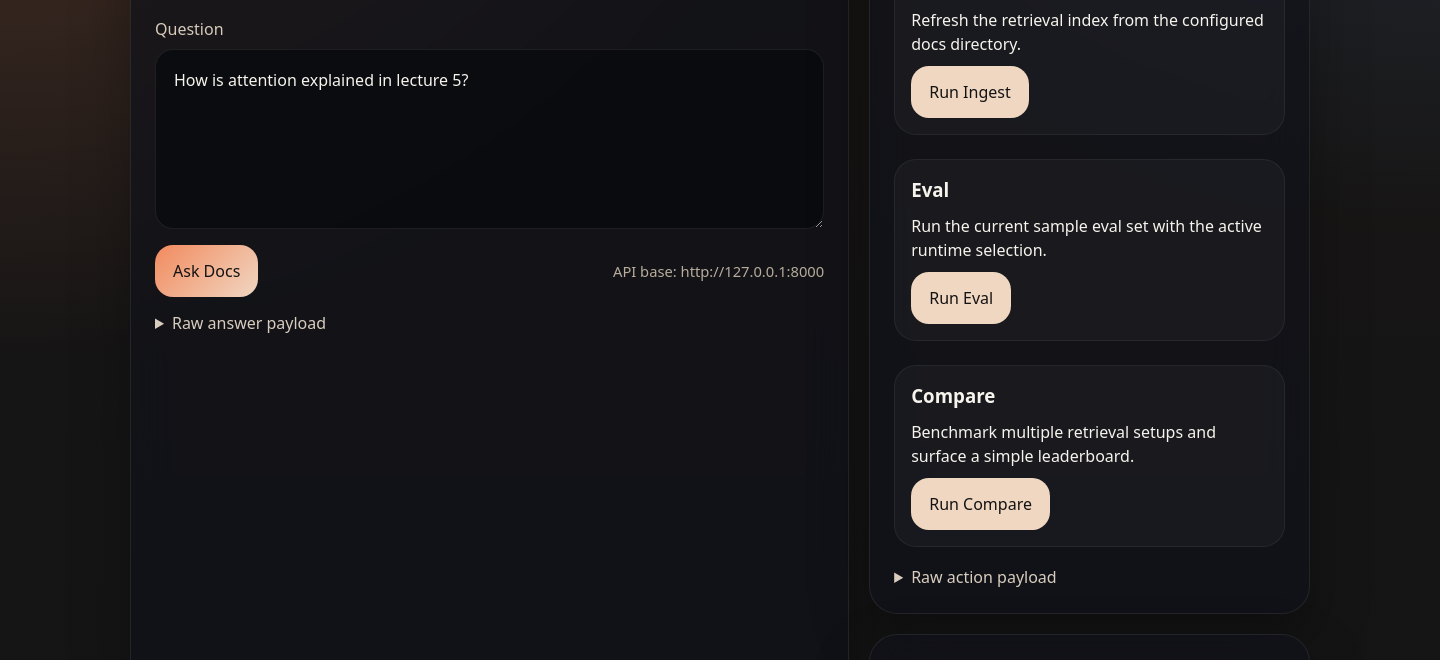
Test: renders backend citation ids and preserves an unlabelled span
(page scrolled)
Click the button "Ask Docs" at [207, 271], box [155, 245, 258, 297]
(page scrolled)
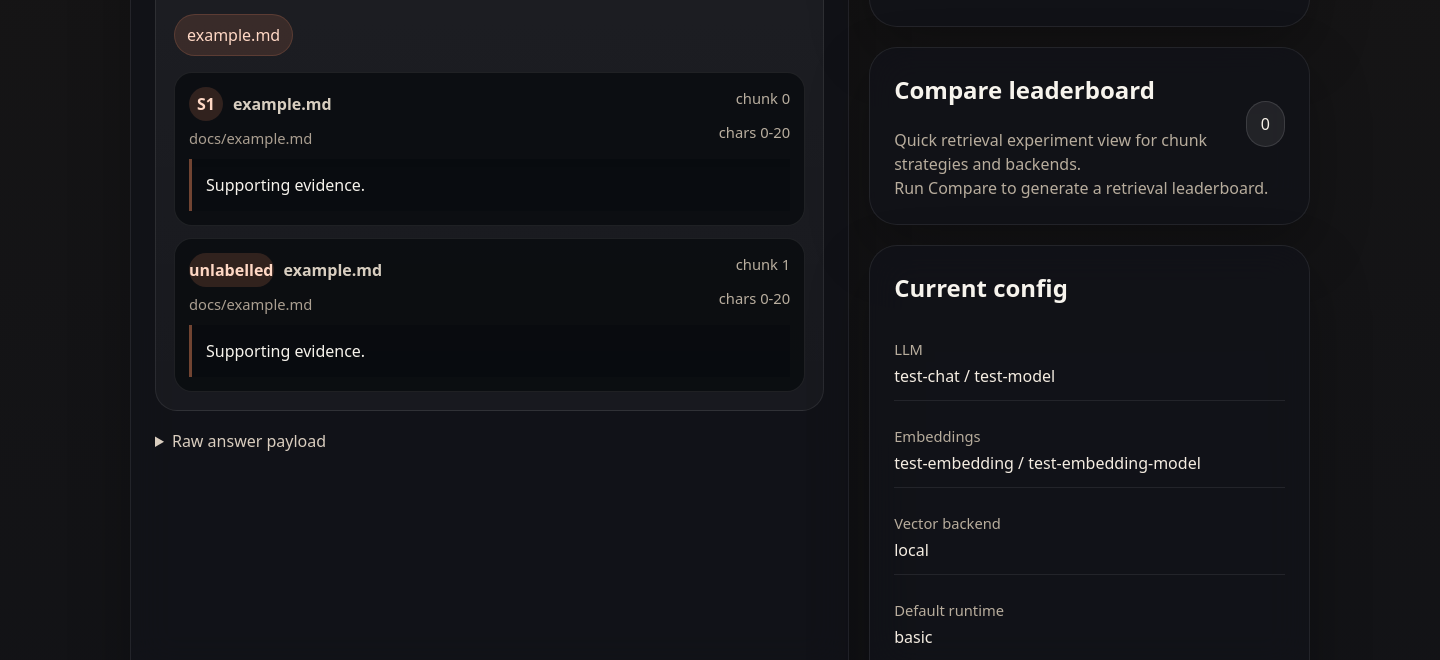
expect the text "S1" is shown: met, box [189, 87, 223, 121]
expect the text "unlabelled" is shown: met, box [189, 253, 274, 287]
